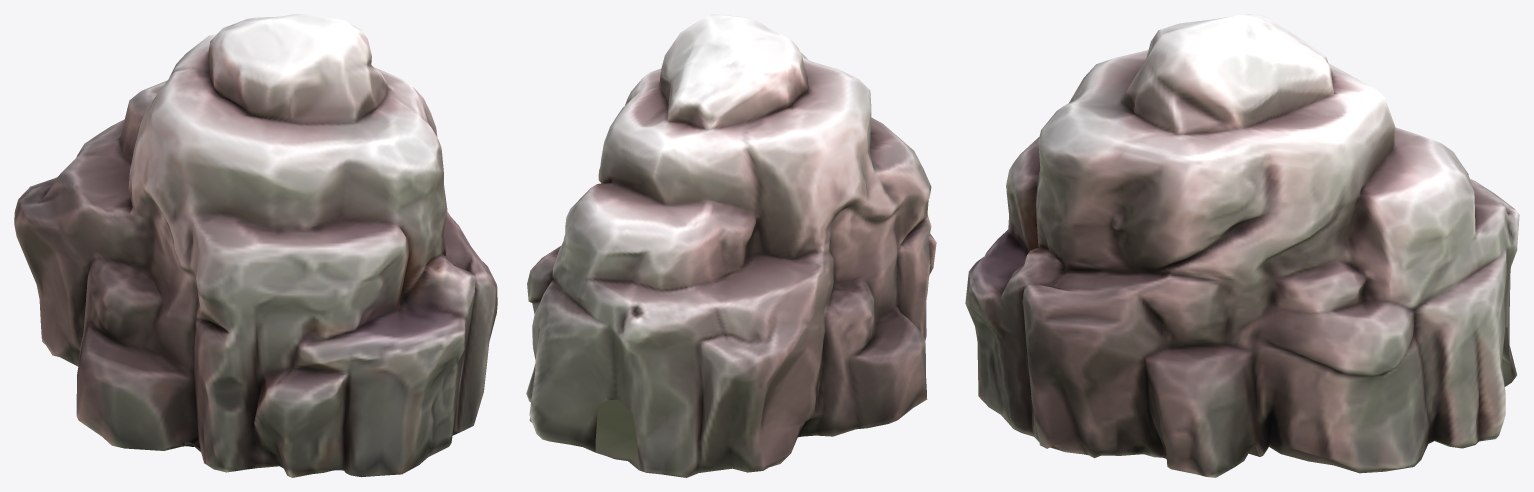
Rendered from mountain.glb.
The picture shows the model from 3 angles, left to right: view 1: azimuth 30°, elevation 25°; view 2: azimuth 150°, elevation 25°; view 3: azimuth 270°, elevation 25°; orthographic projection. The views are drawn at different scales.
Parts seen in each view (by area): view 1: mountain; view 2: mountain; view 3: mountain.
Boxes of the visible parts, x1,y1,x2,y2 form: mountain: (14, 14, 497, 477); mountain: (526, 14, 936, 477); mountain: (965, 14, 1519, 477).
Size of what is drawn, in the model's own units: 48.76 by 48.37 by 63.68.
Materials: 1 (1 with a texture image).
